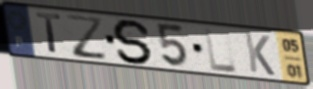5: (154, 21, 191, 70)
K: (242, 31, 277, 78)
L: (203, 27, 240, 75)
S: (111, 18, 155, 66)
T: (34, 11, 63, 56)
Z: (64, 13, 110, 62)
